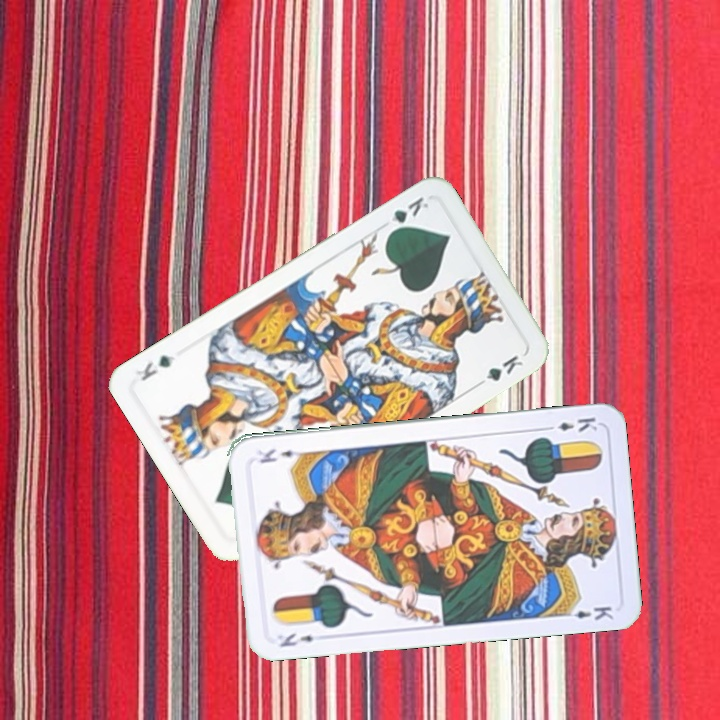EK: (541, 413, 600, 434), (275, 629, 317, 650)
GK: (383, 192, 432, 237)
